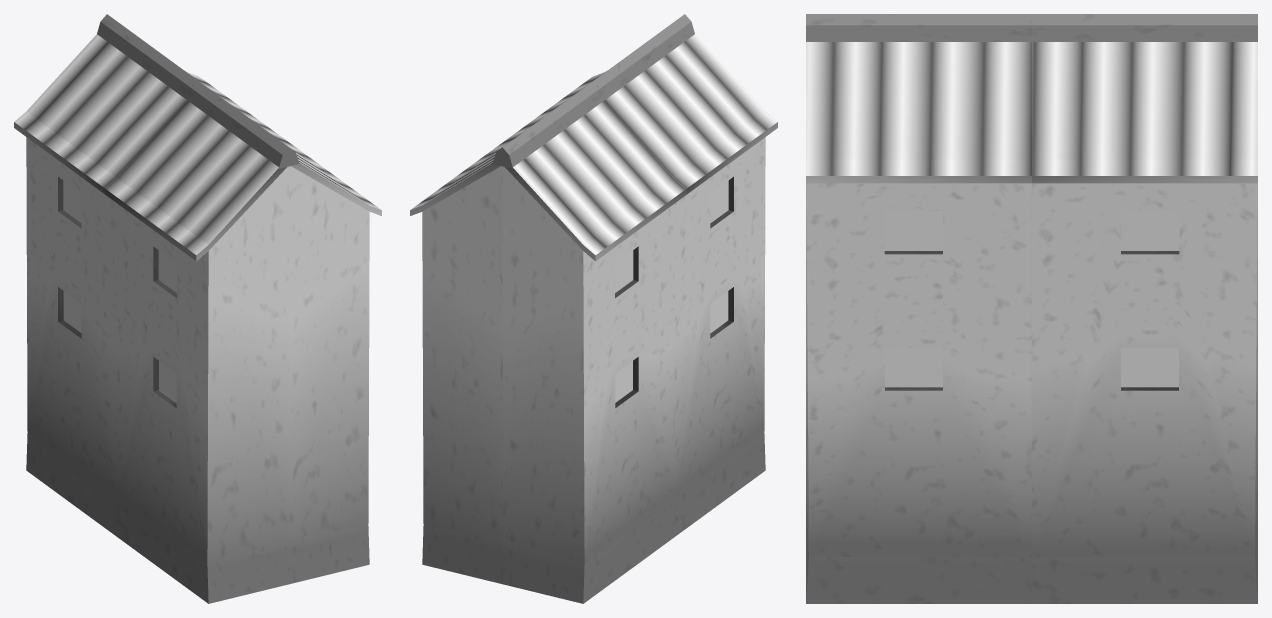
File: WesternHouseD.fbx
3 views of the same model, side by side, from view 1: azimuth 30°, elevation 25°; view 2: azimuth 150°, elevation 25°; view 3: azimuth 270°, elevation 25° (orthographic). The views are drawn at different scales.
Visible parts, largest first — view 1: HouseD; view 2: HouseD; view 3: HouseD.
Boxes of the visible parts, x1=… form: HouseD: x1=14, y1=14, x2=381, y2=603; HouseD: x1=410, y1=14, x2=777, y2=603; HouseD: x1=806, y1=14, x2=1257, y2=603.
Size of the model in its own units: 744 by 1676 by 1268.
